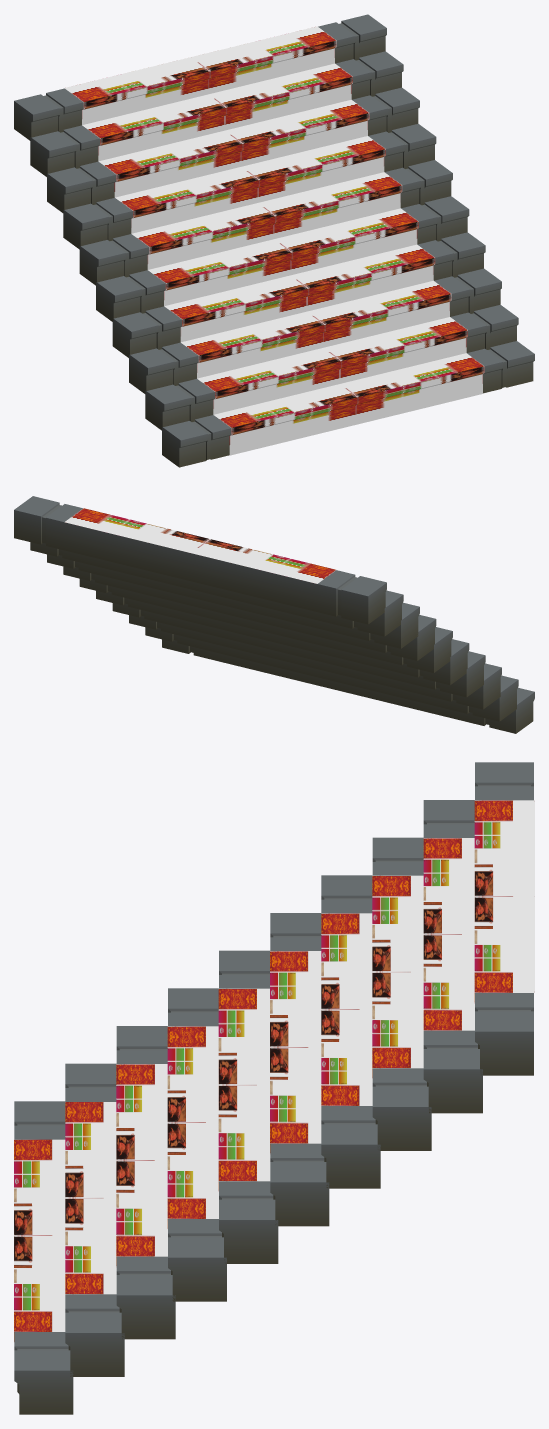
The model's file is WRLD_BLEND_ASSET_STAIR.fbx.
The picture shows the model from 3 angles, top to bottom: view 1: azimuth 30°, elevation 25°; view 2: azimuth 150°, elevation 25°; view 3: azimuth 270°, elevation 25°; orthographic projection. The views are drawn at different scales.
Parts seen in each view (by area): view 1: Cube.028; view 2: Cube.028; view 3: Cube.028.
Part boxes in pixels (x1,y1,x2,y2): Cube.028: (14,14,534,467); Cube.028: (14,496,534,733); Cube.028: (14,762,534,1414).
Size of the model in its own units: 715 by 475 by 585.
